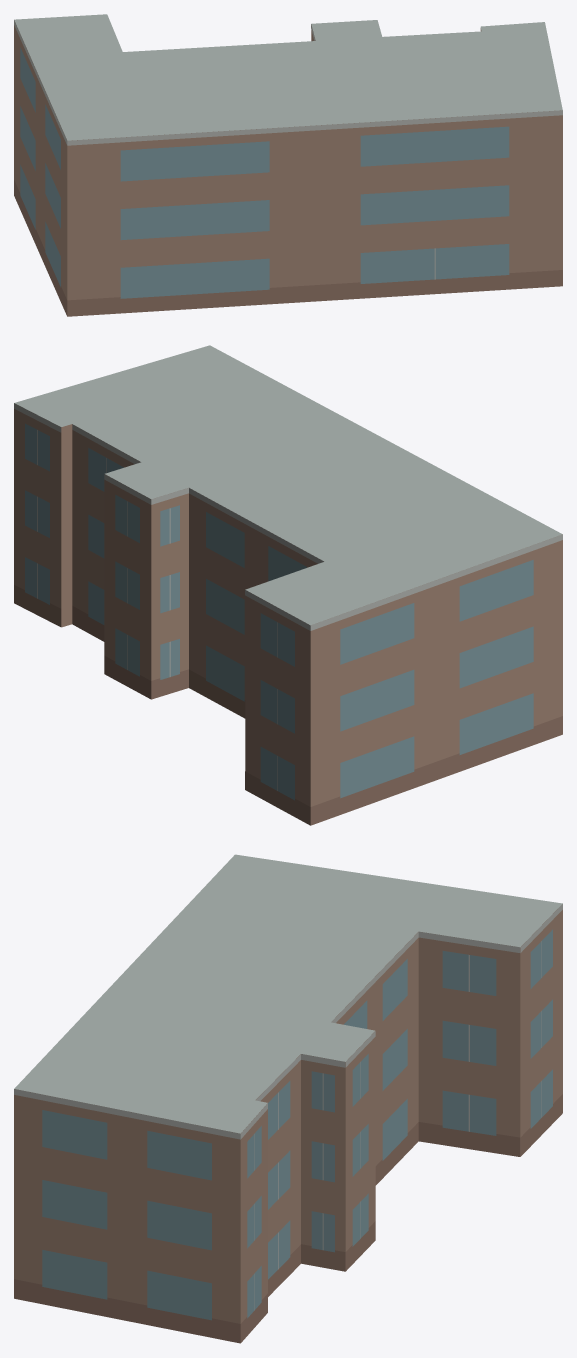
The model's file is survey-upis-32498331.glb.
3 views of the same model, one above another, from view 1: azimuth 30°, elevation 25°; view 2: azimuth 150°, elevation 25°; view 3: azimuth 270°, elevation 25° (orthographic). The views are drawn at different scales.
Visible parts, largest first — view 1: survey-upis-32498331.tmp; view 2: survey-upis-32498331.tmp; view 3: survey-upis-32498331.tmp.
Part boxes in pixels (left/top/right/bottom): survey-upis-32498331.tmp: left=14, top=14, right=562, bottom=316; survey-upis-32498331.tmp: left=14, top=345, right=562, bottom=825; survey-upis-32498331.tmp: left=14, top=854, right=562, bottom=1343.
Size of the model in its own units: 24.55 by 8.6 by 20.4.
